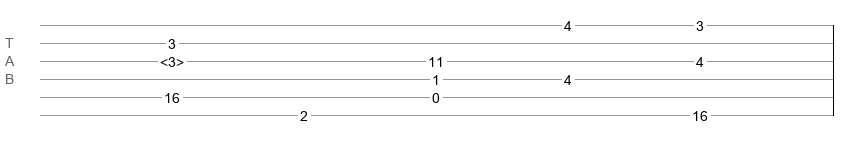0: (432, 90, 440, 100)
1: (432, 72, 440, 82)
11: (428, 54, 444, 64)
16: (164, 90, 180, 100), (692, 108, 708, 118)
2: (300, 108, 308, 118)
3: (168, 36, 176, 46), (696, 18, 704, 28)
4: (564, 18, 572, 28), (564, 72, 572, 82), (696, 54, 704, 64)
harmonic: (160, 54, 184, 64)
